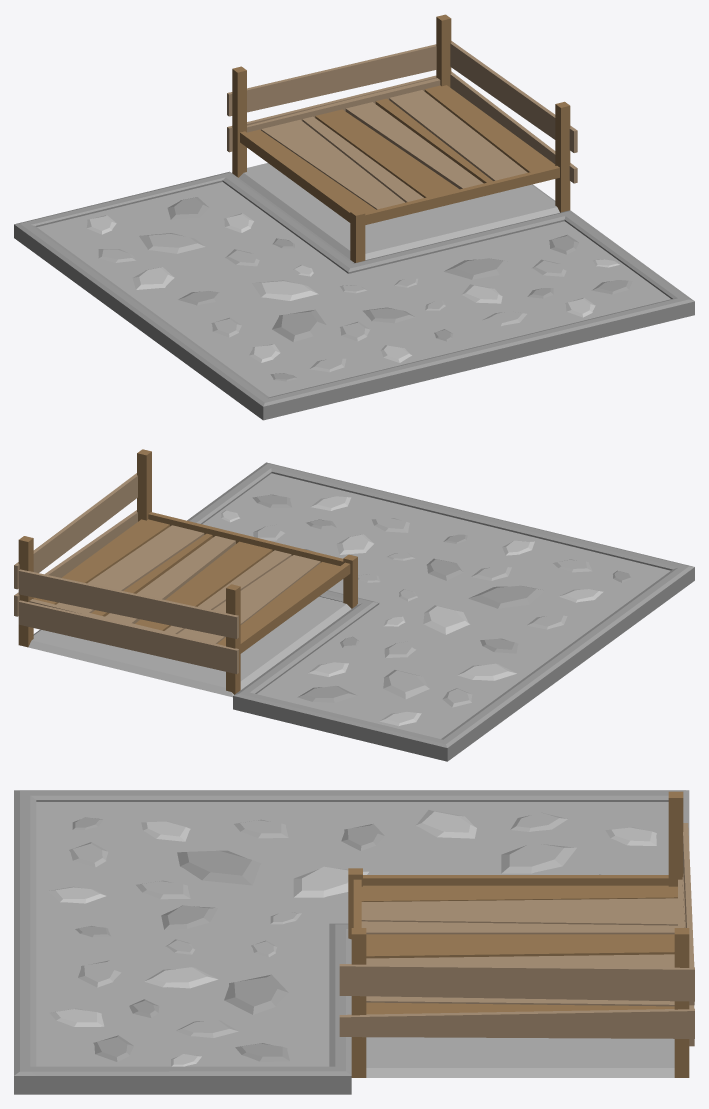
Rendered from stage.fbx.
3 views of the same model, one above another, from view 1: azimuth 30°, elevation 25°; view 2: azimuth 150°, elevation 25°; view 3: azimuth 270°, elevation 25° (orthographic). The views are drawn at different scales.
Visible parts, largest first — view 1: stage; view 2: stage; view 3: stage.
Boxes of the visible parts, <box> form: stage: <box>14,14,694,420</box>; stage: <box>14,449,694,761</box>; stage: <box>14,790,694,1094</box>.
Bounding box in the file's own units: 331 × 86.07 × 332.
